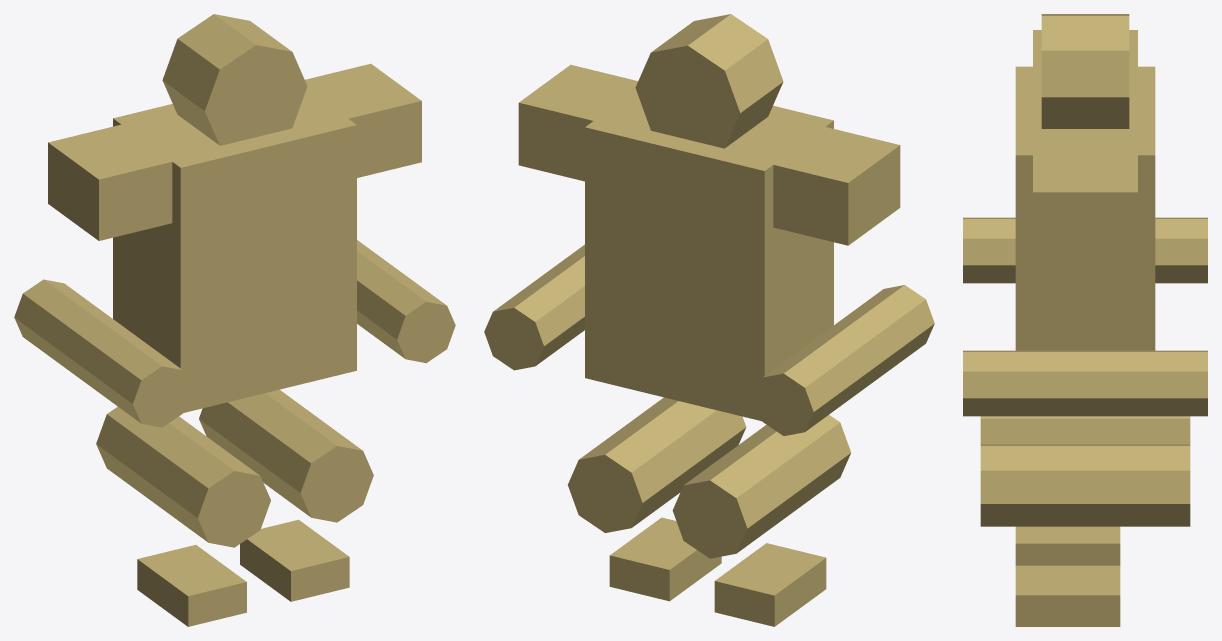
The model's file is DwemerCenturion_B_Basic.glb.
3 views of the same model, side by side, from view 1: azimuth 30°, elevation 25°; view 2: azimuth 150°, elevation 25°; view 3: azimuth 270°, elevation 25° (orthographic). The views are drawn at different scales.
Visible parts, largest first — view 1: world; view 2: world; view 3: world.
Boxes of the visible parts, left/top/right/bottom form: world: left=14, top=14, right=455, bottom=626; world: left=484, top=14, right=934, bottom=626; world: left=963, top=14, right=1207, bottom=626.
Bounding box in the file's own units: 2.2 × 3.6 × 1.4.
